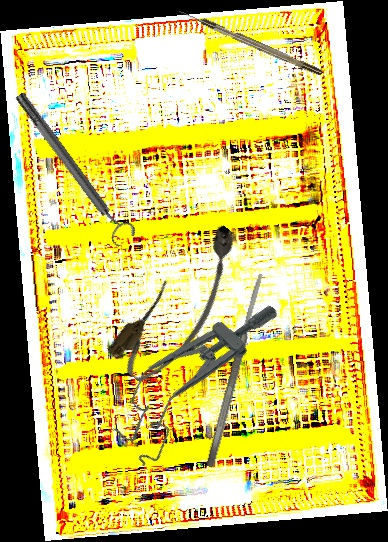Cannula: (102, 216, 263, 393)
Fixation Ring: (8, 85, 139, 250)
Hook Surgical: (177, 6, 323, 78)
Spatula Surgical: (204, 272, 267, 469)
Speculum: (96, 274, 290, 471)
